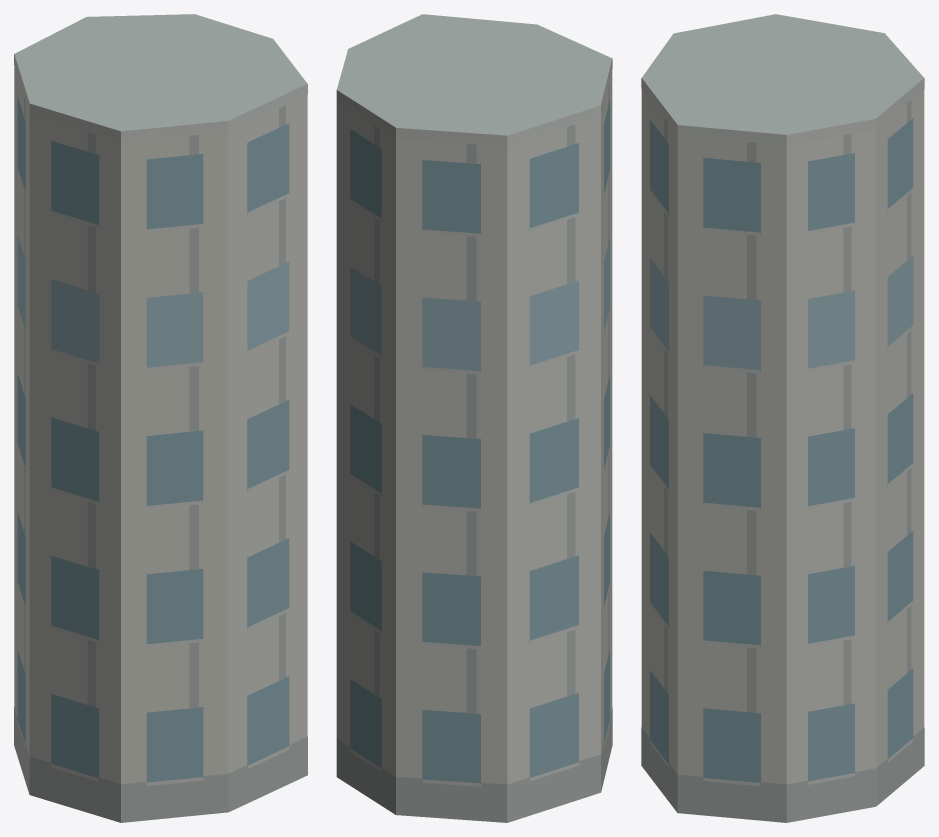
File: survey-upis-32703568.glb
3 renders of one model, left to right at view 1: azimuth 30°, elevation 25°; view 2: azimuth 150°, elevation 25°; view 3: azimuth 270°, elevation 25°, orthographic.
Visible parts, largest first — view 1: survey-upis-32703568.tmp; view 2: survey-upis-32703568.tmp; view 3: survey-upis-32703568.tmp.
Part boxes in pixels (box(x1,y1,x2,y2)): survey-upis-32703568.tmp: box(14, 14, 307, 822); survey-upis-32703568.tmp: box(336, 14, 612, 822); survey-upis-32703568.tmp: box(641, 14, 924, 822).
Size of the model in its own units: 5.75 by 15.25 by 5.69.
